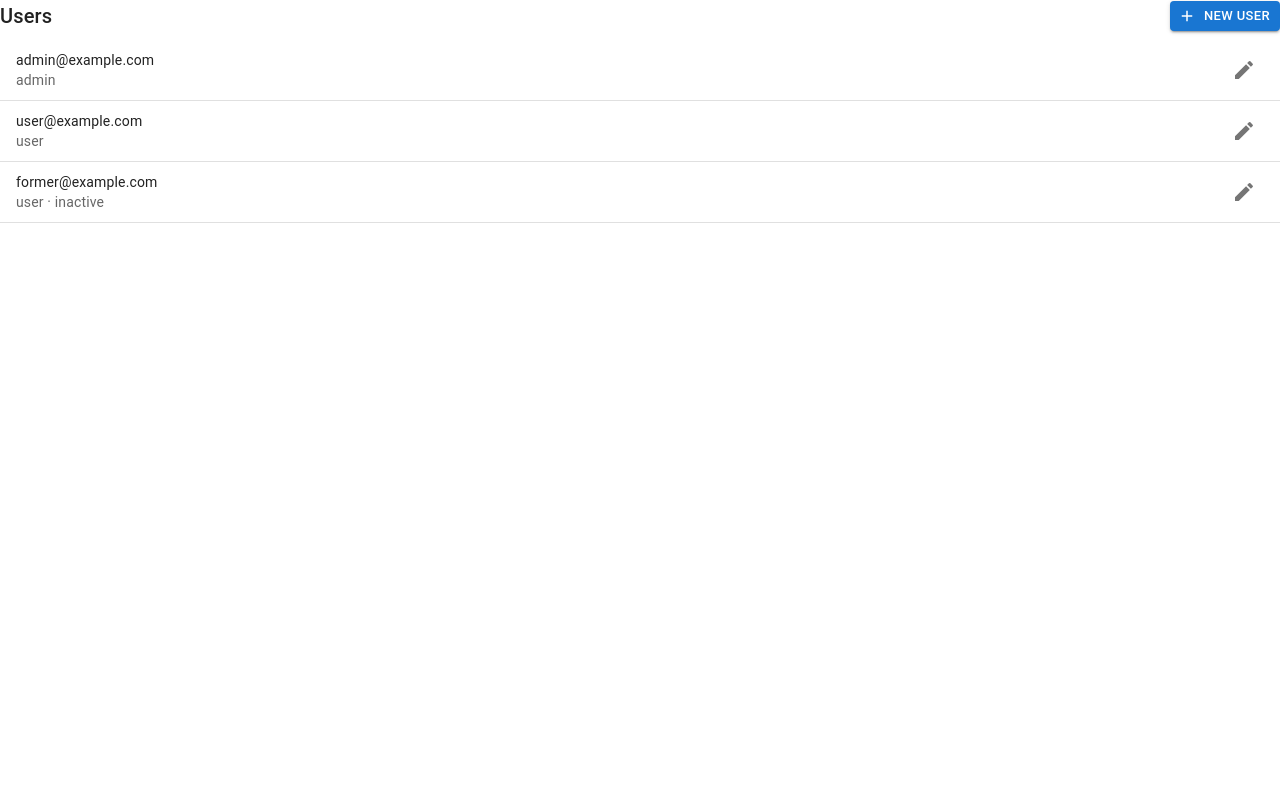
Scenario: UsersAdmin › locks the role and active switch on the signed-in admin
Check: the text "admin@example.com" is shown, box [16, 52, 154, 68]
Click the button named "Edit" in the row of "admin@example.com": (1244, 70) [1224, 50, 1264, 90]
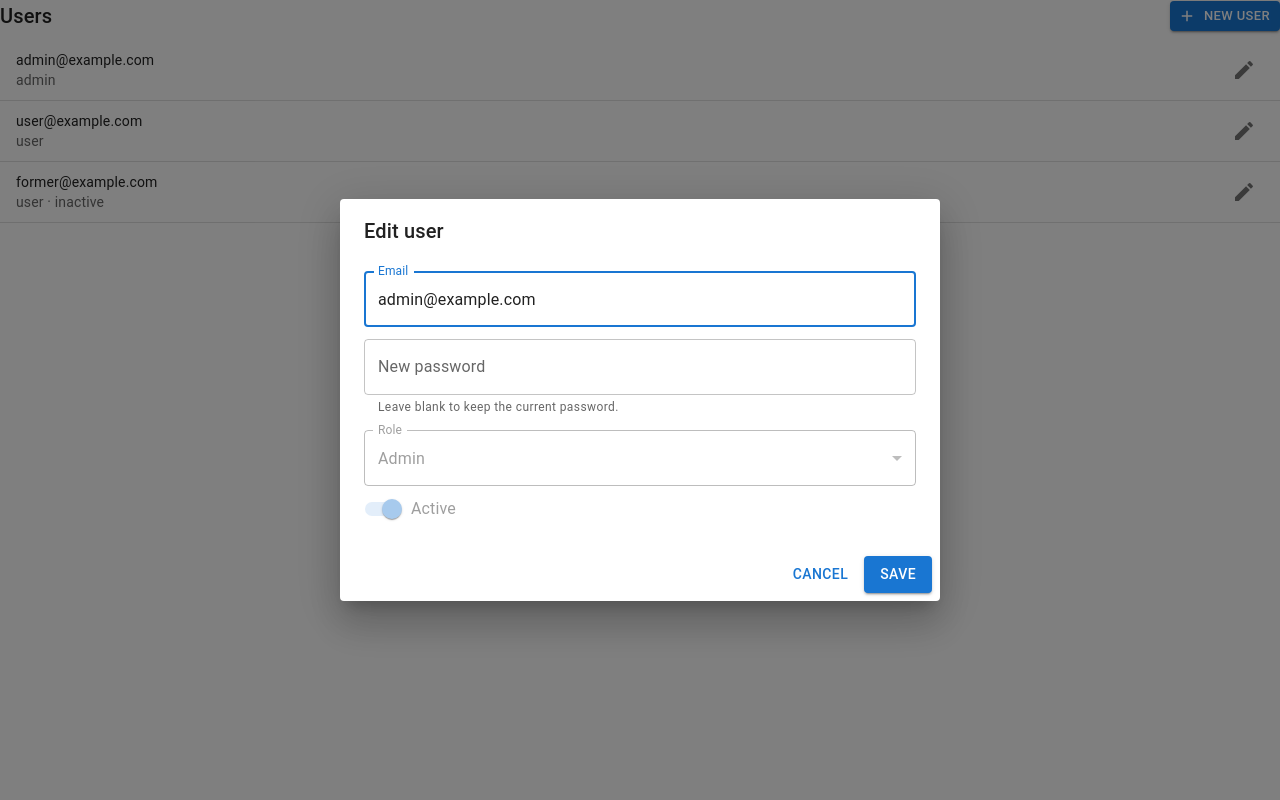
Check: the checkbox labelled "Active" is disabled, box [365, 499, 456, 519]
